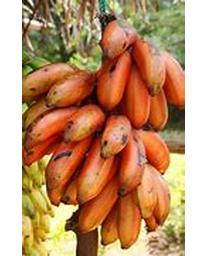banana: (22, 22, 187, 250)
